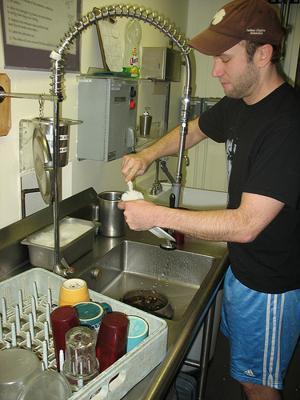person: (117, 5, 300, 400)
